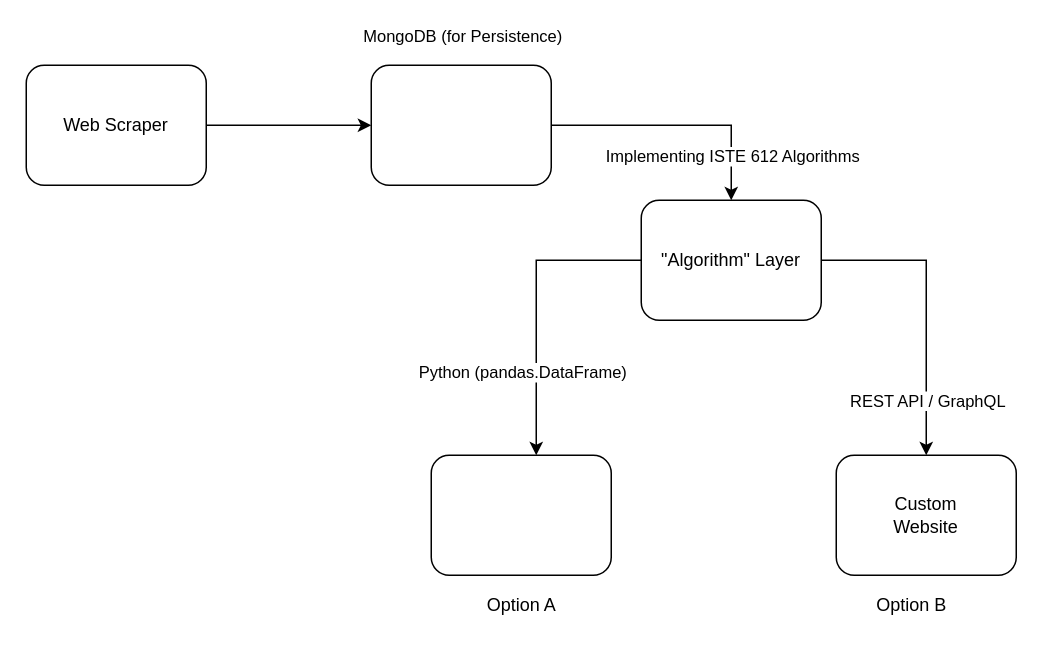
Image size: 1043x645. Some labels were removed from this diagram. The shapes that lost their labels are listed below. From the top down, each one's centre as x and y in pixels, then its label:
(x=460, y=124): Database Layer
(x=520, y=514): Power BI
